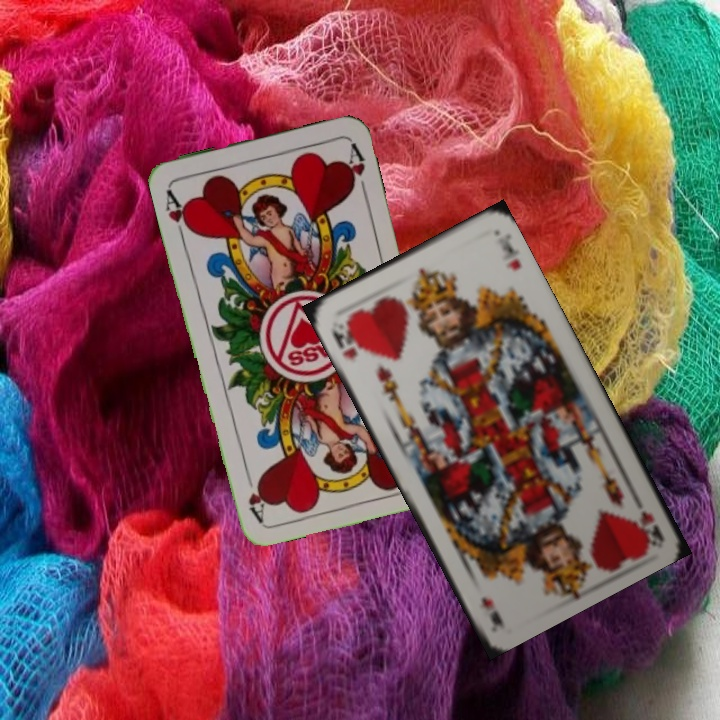HA: (161, 183, 195, 241)
HK: (629, 486, 666, 545), (326, 317, 362, 363)
